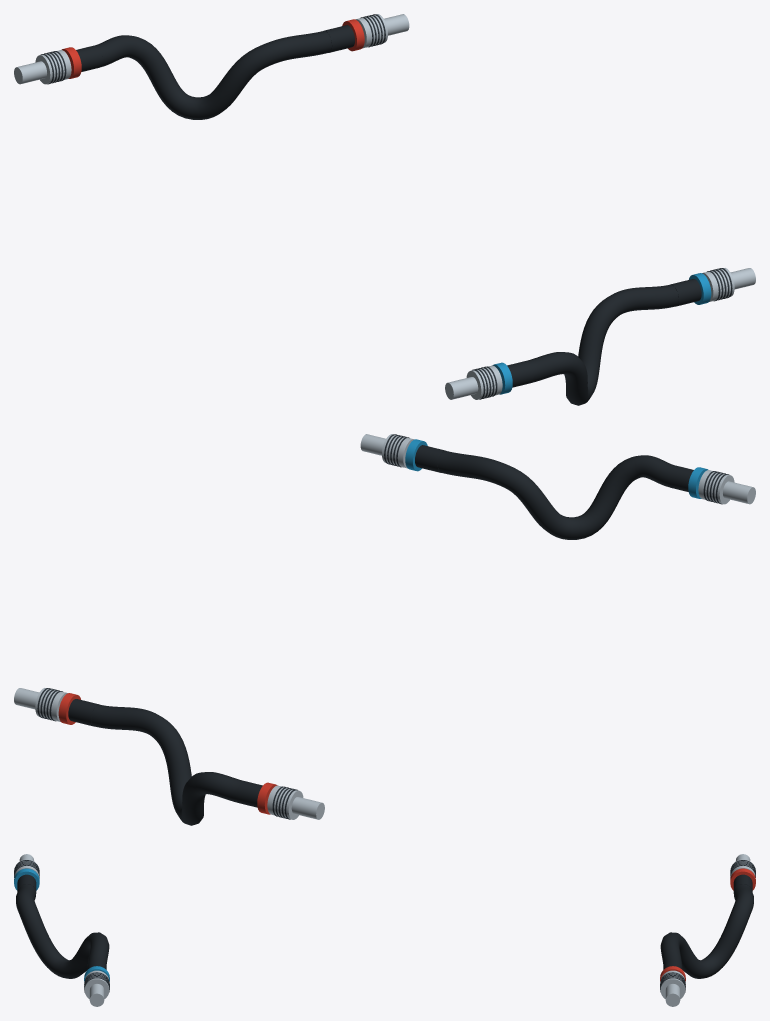
The model's file is SM_GJ_SwitchHarness_02.fbx.
3 views of the same model, one above another, from view 1: azimuth 30°, elevation 25°; view 2: azimuth 150°, elevation 25°; view 3: azimuth 270°, elevation 25° (orthographic). The views are drawn at different scales.
Visible parts, largest first — view 1: SM_GJ_SwitchHarness_02; view 2: SM_GJ_SwitchHarness_02; view 3: SM_GJ_SwitchHarness_02.
Boxes of the visible parts, x1=… form: SM_GJ_SwitchHarness_02: x1=14, y1=14, x2=755, y2=405; SM_GJ_SwitchHarness_02: x1=14, y1=434, x2=755, y2=825; SM_GJ_SwitchHarness_02: x1=14, y1=854, x2=755, y2=1006.
Bounding box in the file's own units: 22.6 × 50.76 × 4.94.
